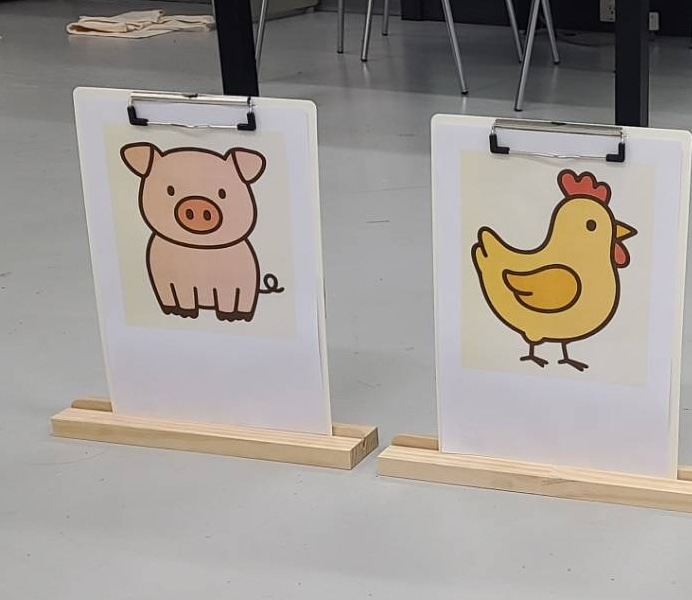pig: (118, 139, 285, 319)
